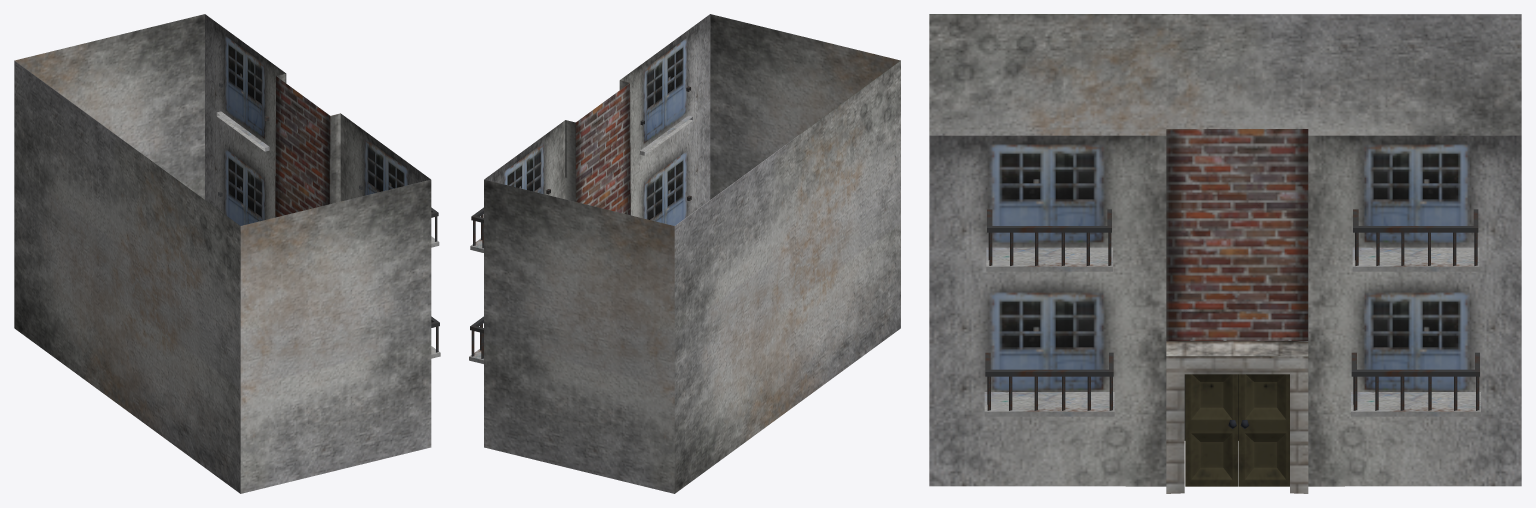
The model's file is N4SoloCasaOK.fbx.
The picture shows the model from 3 angles, left to right: view 1: azimuth 30°, elevation 25°; view 2: azimuth 150°, elevation 25°; view 3: azimuth 270°, elevation 25°; orthographic projection. The views are drawn at different scales.
Parts seen in each view (by area): view 1: pCube1, pCube37; view 2: pCube1, pCube36, pCube38; view 3: pCube1, PuetaCasa1, PuetaCasa3, pCube38, pCube20, pCube37, pCube36.
Part boxes in pixels (left/top/right/bottom): pCube1: left=14, top=14, right=431, bottom=493; pCube37: left=216, top=82, right=269, bottom=151; pCube1: left=484, top=14, right=900, bottom=493; pCube36: left=640, top=86, right=692, bottom=155; pCube38: left=469, top=316, right=483, bottom=363; pCube1: left=929, top=14, right=1521, bottom=493; PuetaCasa1: left=1185, top=374, right=1238, bottom=486; PuetaCasa3: left=1239, top=374, right=1289, bottom=486; pCube38: left=1351, top=352, right=1480, bottom=416; pCube20: left=984, top=352, right=1114, bottom=416; pCube37: left=1352, top=209, right=1479, bottom=271; pCube36: left=986, top=209, right=1112, bottom=271.
Size of the model in its own units: 91.43 by 106 by 162.
